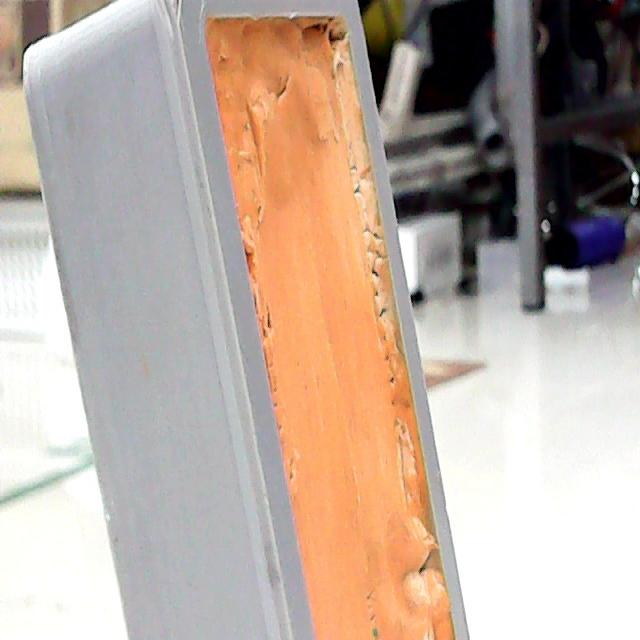block: (22, 2, 474, 639)
